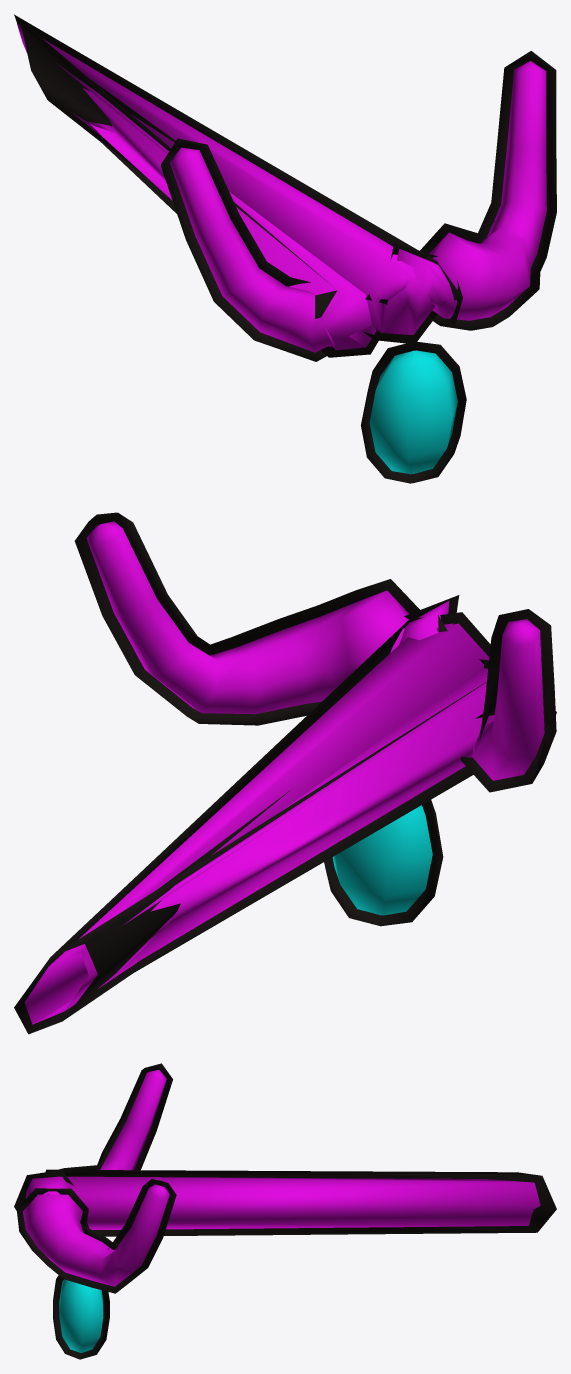
The model's file is beard_moustache_male_lo.glb.
3 views of the same model, one above another, from view 1: azimuth 30°, elevation 25°; view 2: azimuth 150°, elevation 25°; view 3: azimuth 270°, elevation 25° (orthographic). The views are drawn at different scales.
Visible parts, largest first — view 1: beard_moustache_male_lo; view 2: beard_moustache_male_lo; view 3: beard_moustache_male_lo.
Part boxes in pixels (left/top/right/bottom): beard_moustache_male_lo: left=14, top=14, right=556, bottom=483; beard_moustache_male_lo: left=14, top=512, right=556, bottom=1034; beard_moustache_male_lo: left=14, top=1063, right=556, bottom=1359.
Size of the model in its own units: 0.2641 by 0.2243 by 0.4685.
